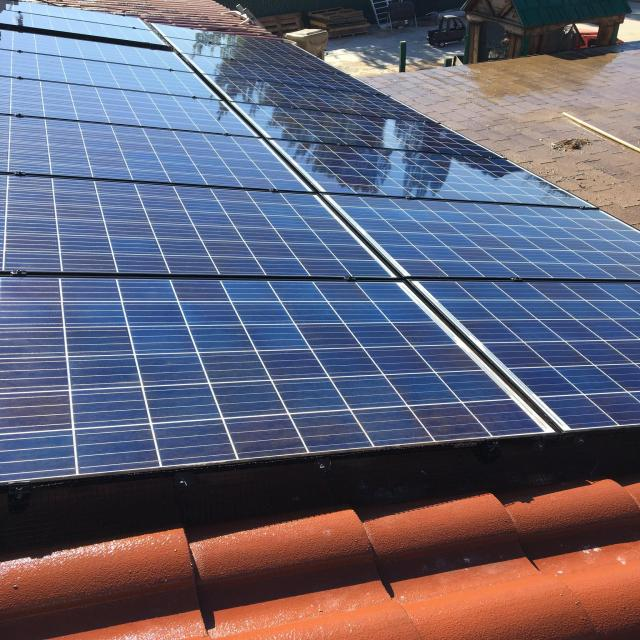clean-solar-panel: (423, 282, 638, 429)
